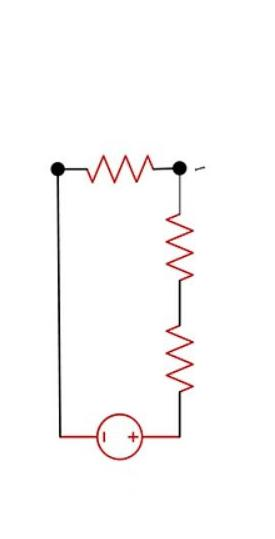resistor: (148, 309, 207, 417), (155, 189, 204, 287), (65, 140, 160, 180)
